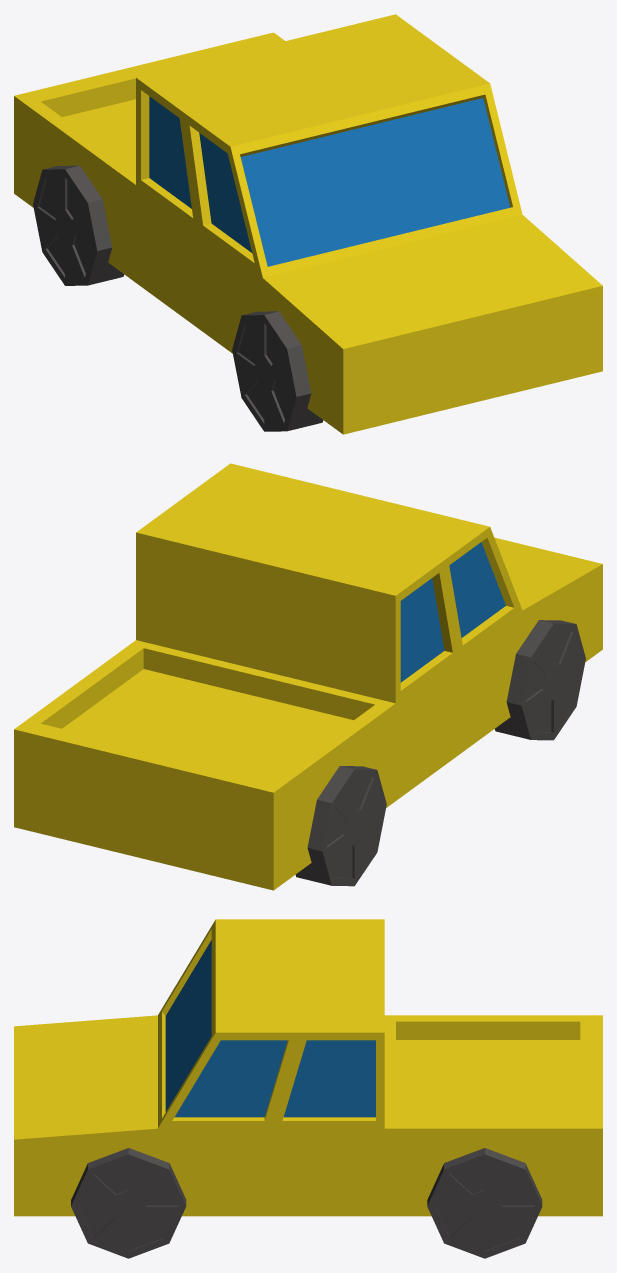
File: sarıcar.fbx
3 renders of one model, top to bottom at view 1: azimuth 30°, elevation 25°; view 2: azimuth 150°, elevation 25°; view 3: azimuth 270°, elevation 25°, orthographic. The views are drawn at different scales.
Visible parts, largest first — view 1: Cylinder.003; view 2: Cylinder.003; view 3: Cylinder.003.
Part boxes in pixels (x1,y1,x2,y2): Cylinder.003: [14, 14, 602, 434]; Cylinder.003: [14, 463, 602, 890]; Cylinder.003: [14, 919, 602, 1258].
Bounding box in the file's own units: 220 × 178 × 433.
1 material, 1 textured.
